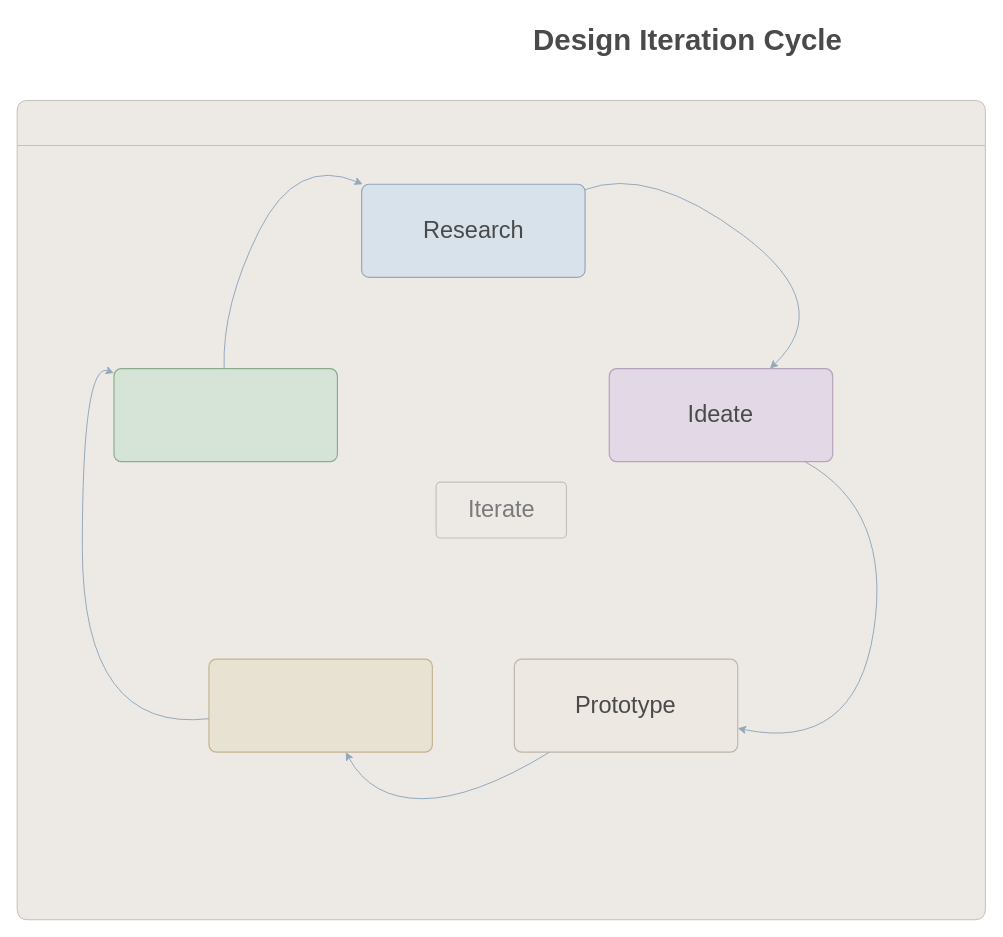
Image size: 1003x937. Some labels were removed from this diagram. The shapes that lost their labels are listed below. From the top down, each one's centre as x and y in pixels, then its label:
At [225,415]: "Refine".
At [320,705]: "Test".
